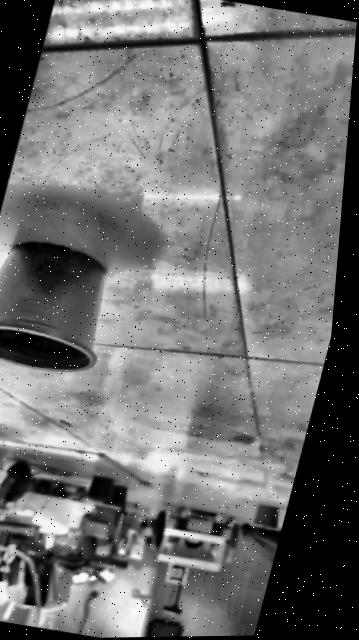pot: (0, 233, 124, 378)
